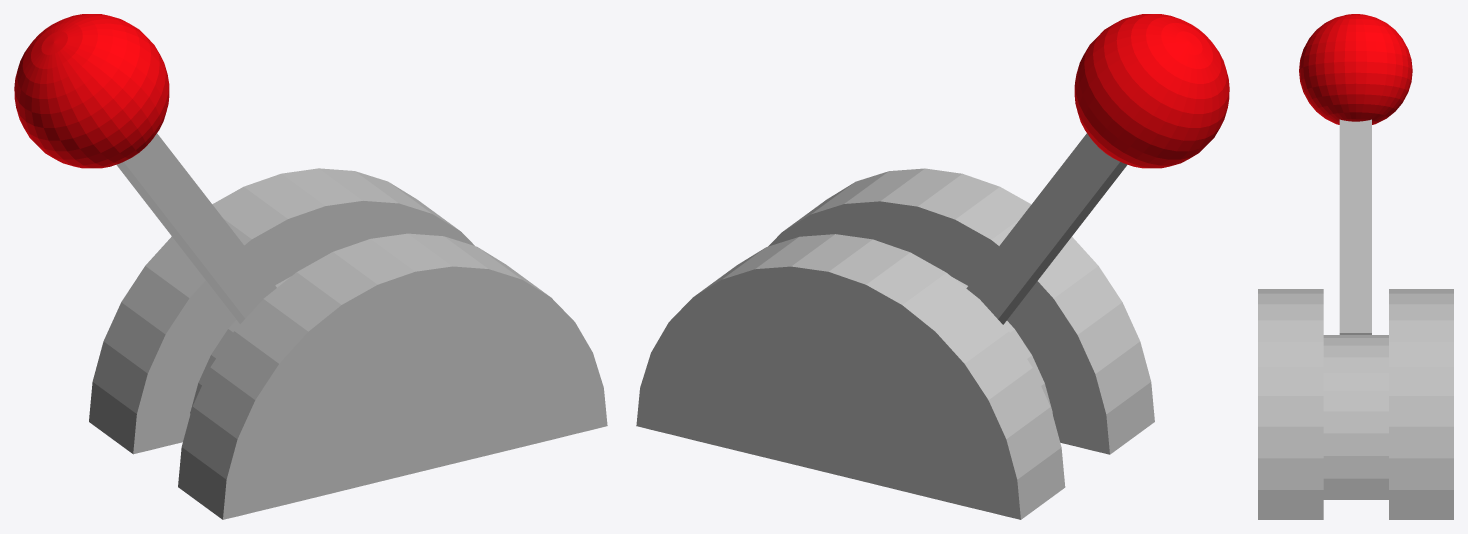
Rendered from lever.obj.
3 renders of one model, left to right at view 1: azimuth 30°, elevation 25°; view 2: azimuth 150°, elevation 25°; view 3: azimuth 270°, elevation 25°, orthographic. The views are drawn at different scales.
Parts seen in each view (by area): view 1: 円柱; view 2: 円柱; view 3: 円柱.
Boxes of the visible parts, x1,y1,x2,y2 form: 円柱: (14,14,607,519); 円柱: (636,14,1229,519); 円柱: (1258,14,1453,519).
Size of the model in its own units: 1.62 by 1.4 by 0.7297.
Materials: 1 (1 with a texture image).
